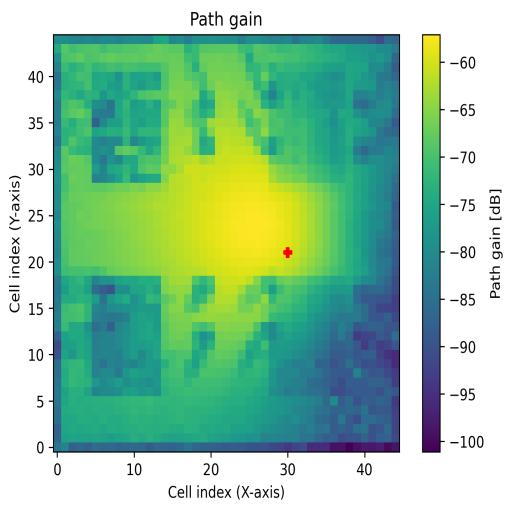Concrete: (268, 64, 346, 181)
Glass: (91, 62, 161, 183)
Metal: (270, 277, 344, 394)
Wood: (92, 276, 161, 396)
